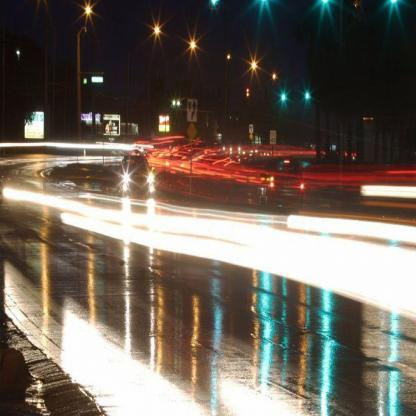other: (157, 114, 281, 190), (114, 165, 173, 234)
